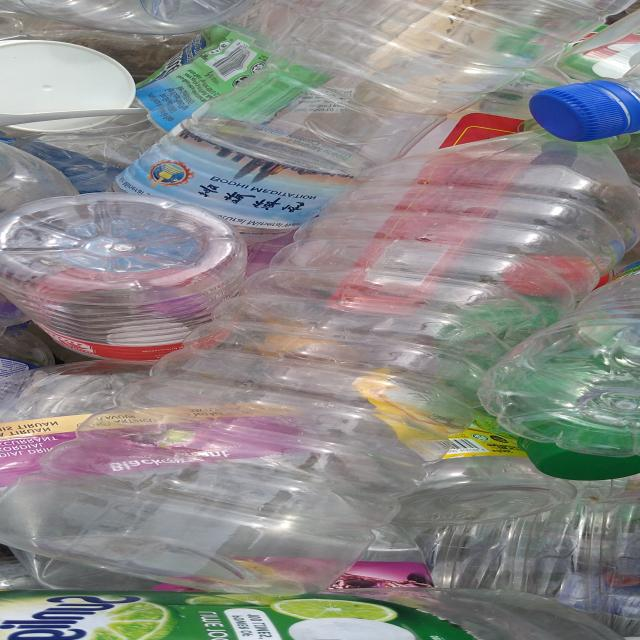plastic: (1, 122, 636, 591), (0, 0, 603, 362), (0, 578, 640, 640)
